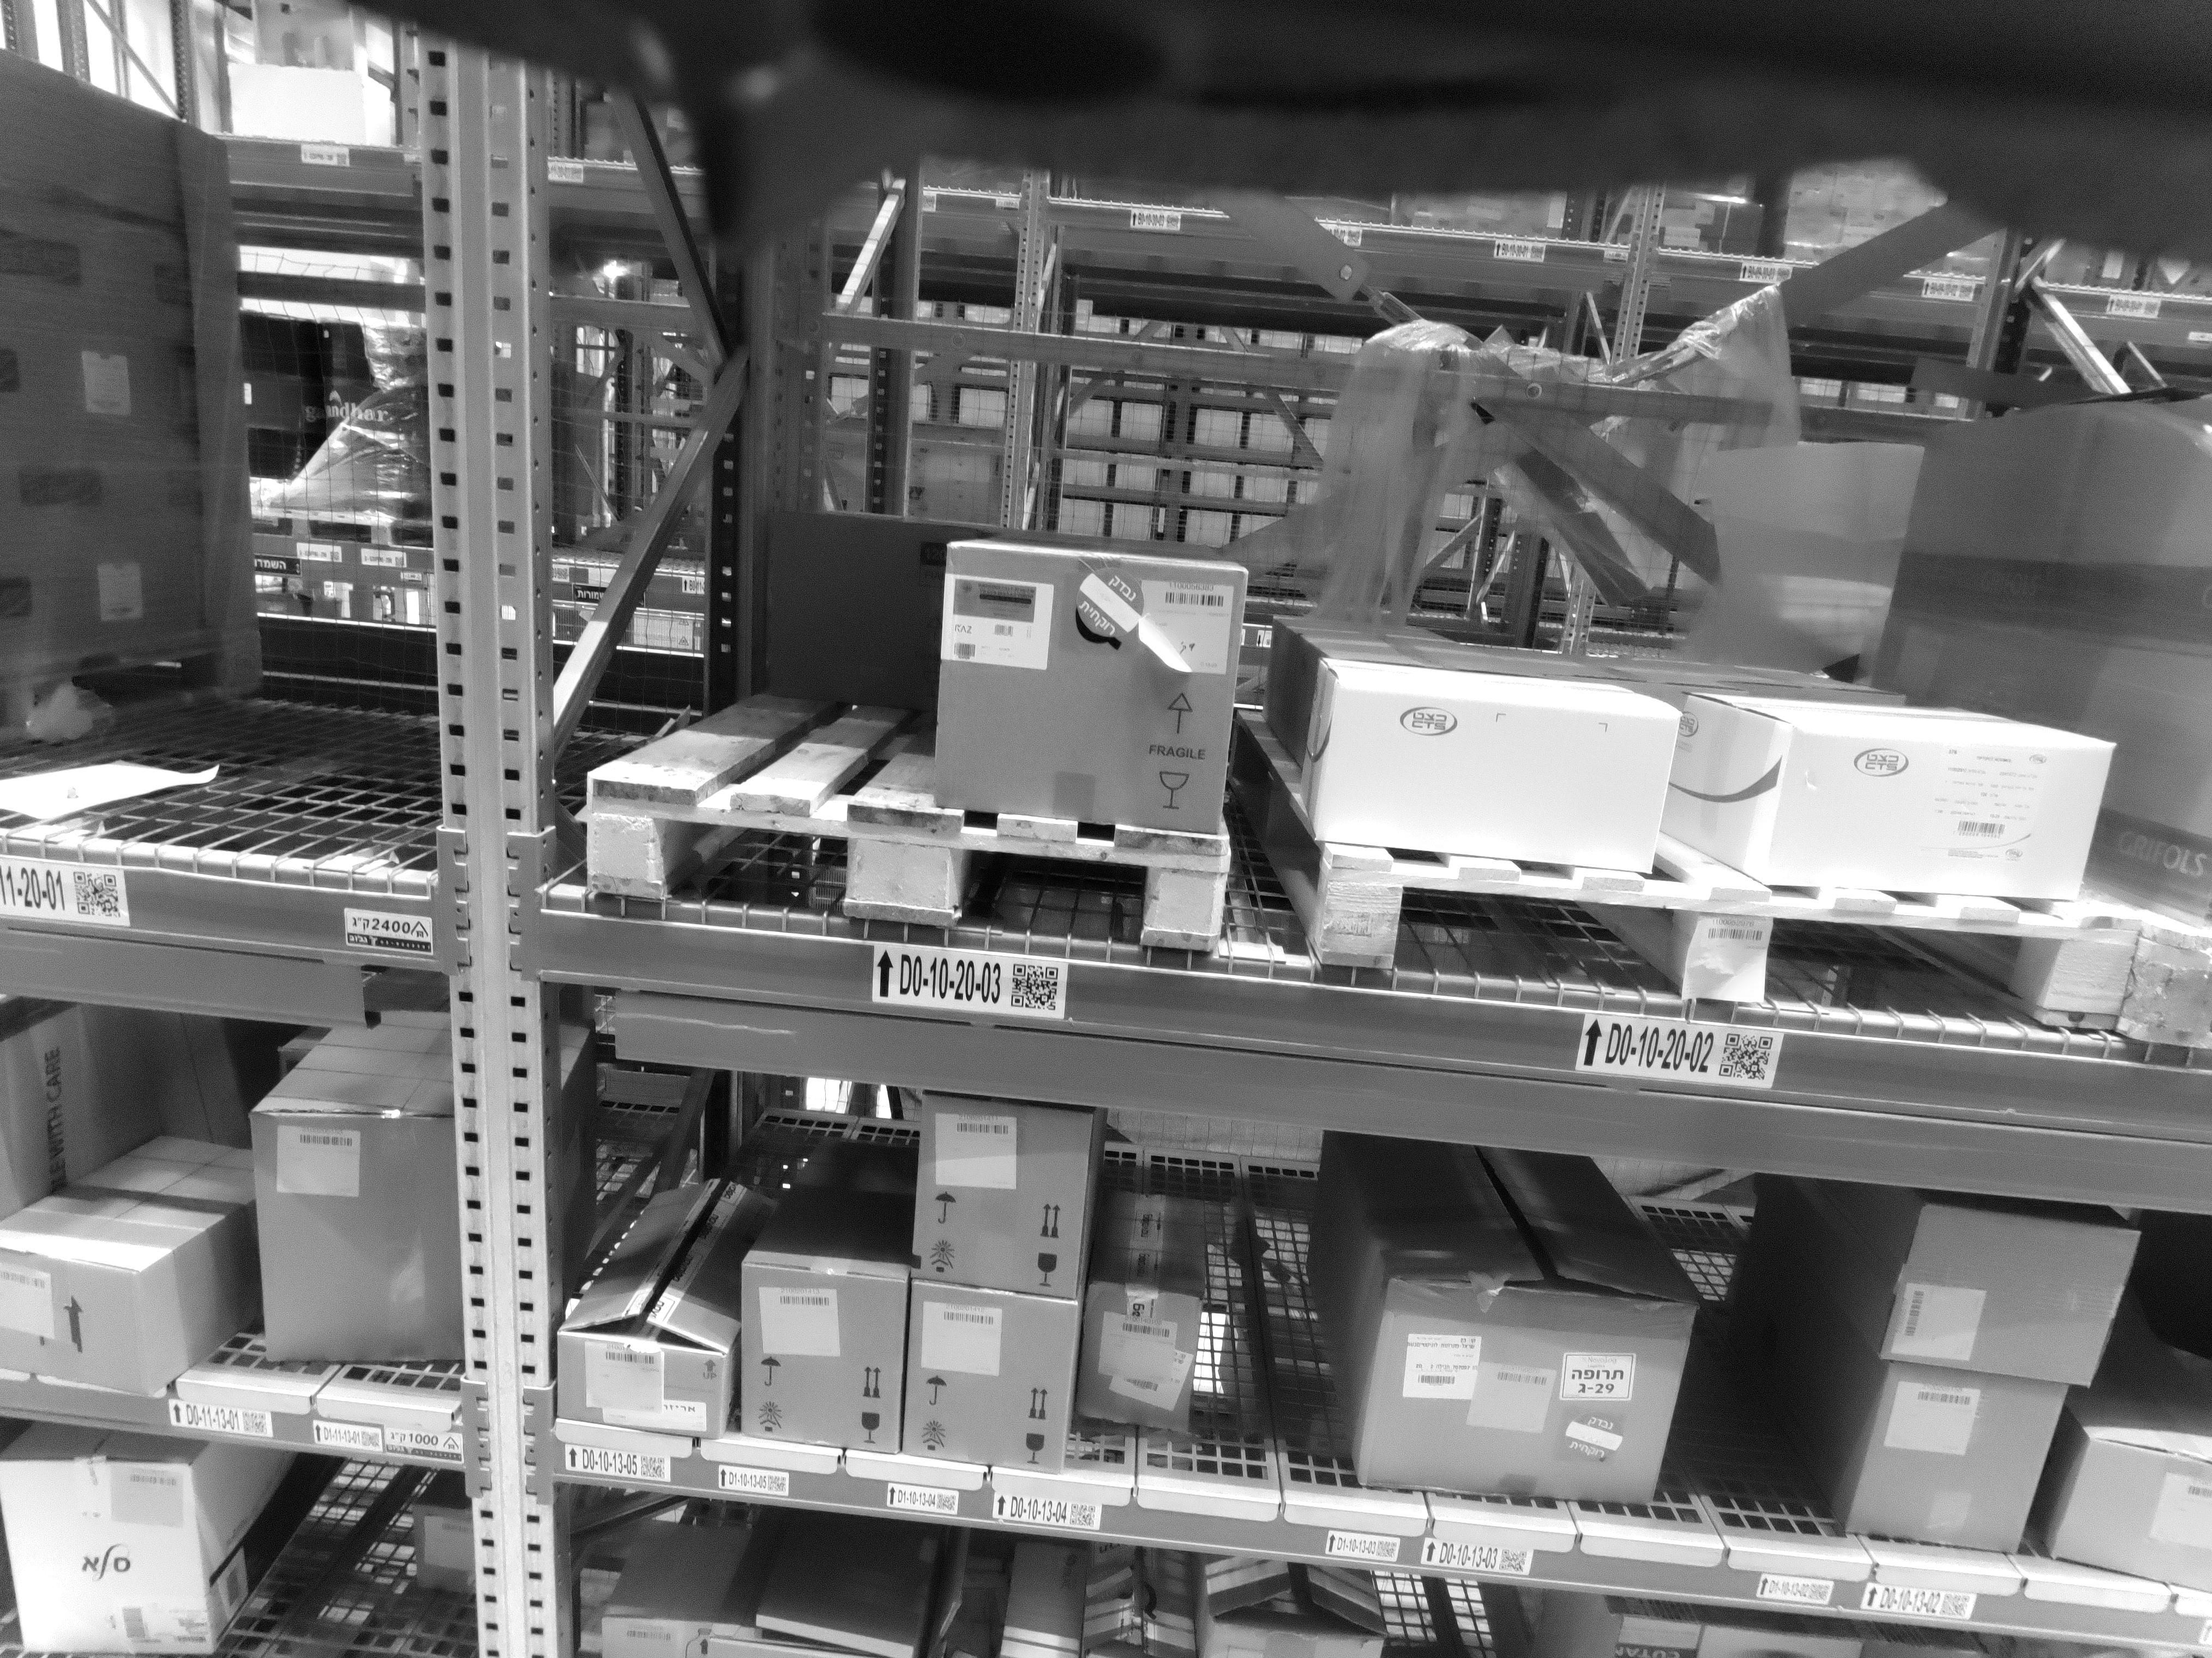empty-shelf: (202, 73, 453, 834)
